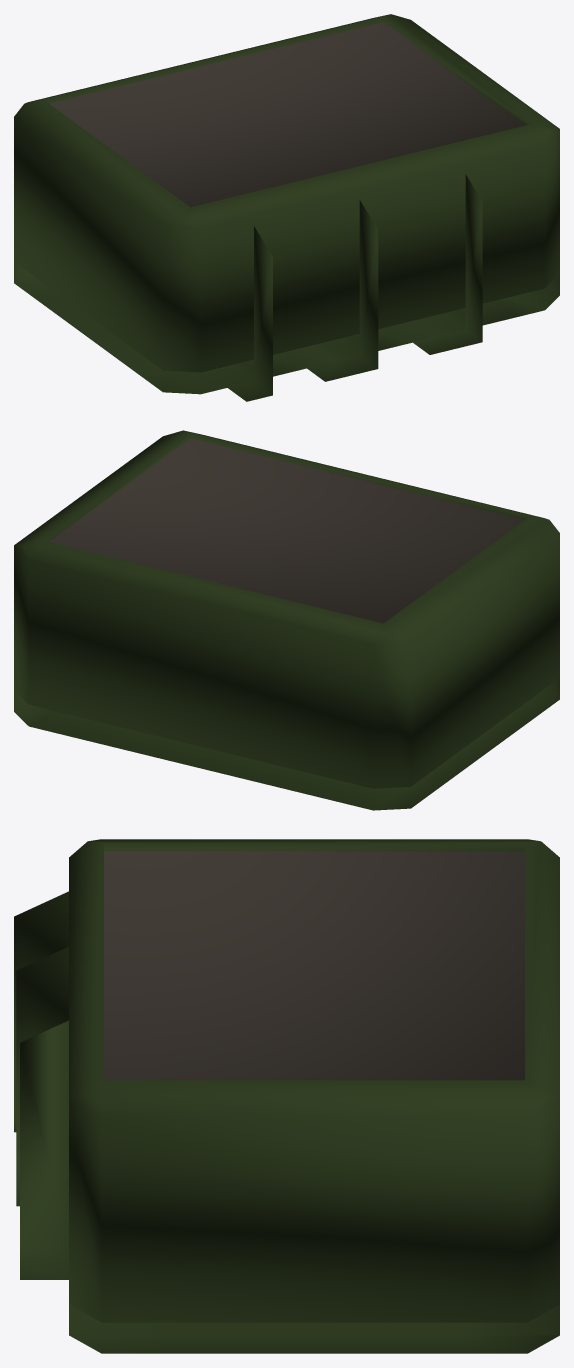
The model's file is hub_green_lvl1.glb.
3 renders of one model, top to bottom at view 1: azimuth 30°, elevation 25°; view 2: azimuth 150°, elevation 25°; view 3: azimuth 270°, elevation 25°, orthographic. The views are drawn at different scales.
Parts seen in each view (by area): view 1: Cube; view 2: Cube; view 3: Cube.
Part boxes in pixels (x1,y1,x2,y2): Cube: (14,14,559,401); Cube: (14,430,559,810); Cube: (14,839,559,1353).
Bounding box in the file's own units: 8 × 3.42 × 6.67.
